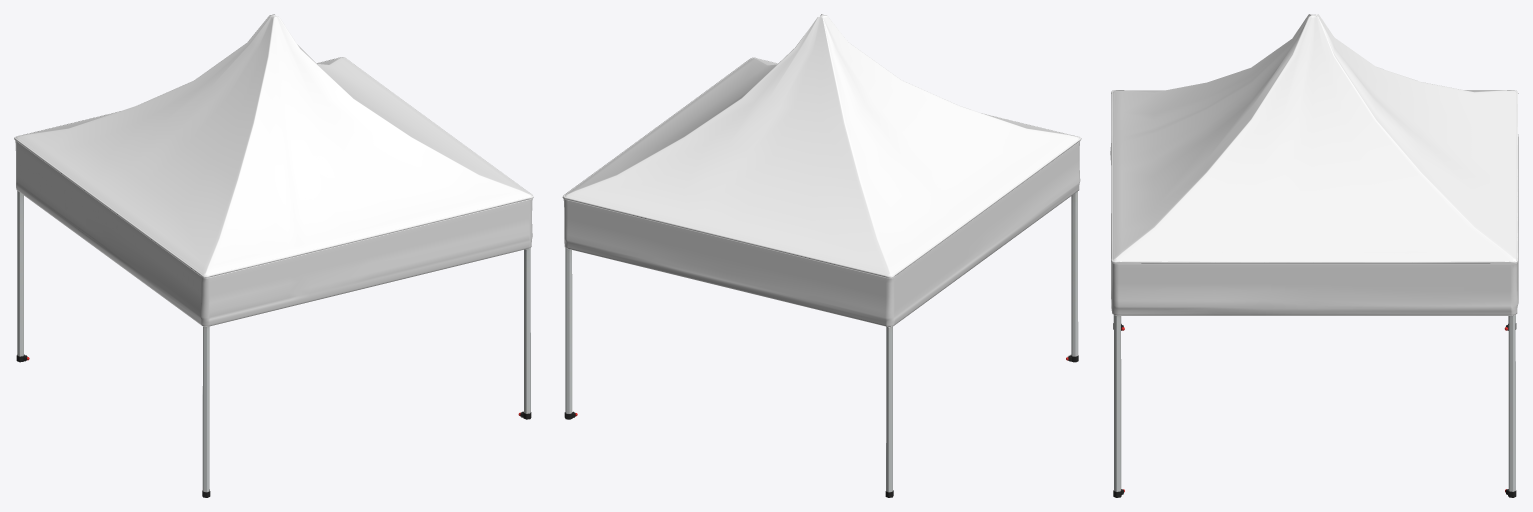
The model's file is canopy-8x8.glb.
The picture shows the model from 3 angles, left to right: view 1: azimuth 30°, elevation 25°; view 2: azimuth 150°, elevation 25°; view 3: azimuth 270°, elevation 25°; orthographic projection. The views are drawn at different scales.
Parts seen in each view (by area): view 1: fabric, leg; view 2: fabric, leg; view 3: fabric, leg.
Part boxes in pixels (<box>): fabric: <box>14,14,533,326</box>; leg: <box>16,191,531,497</box>; fabric: <box>562,14,1081,327</box>; leg: <box>564,191,1078,497</box>; fabric: <box>1110,14,1518,315</box>; leg: <box>1113,315,1516,497</box>.
Bounding box in the file's own units: 2.44 × 2.62 × 2.44.
3 materials, 1 textured.
